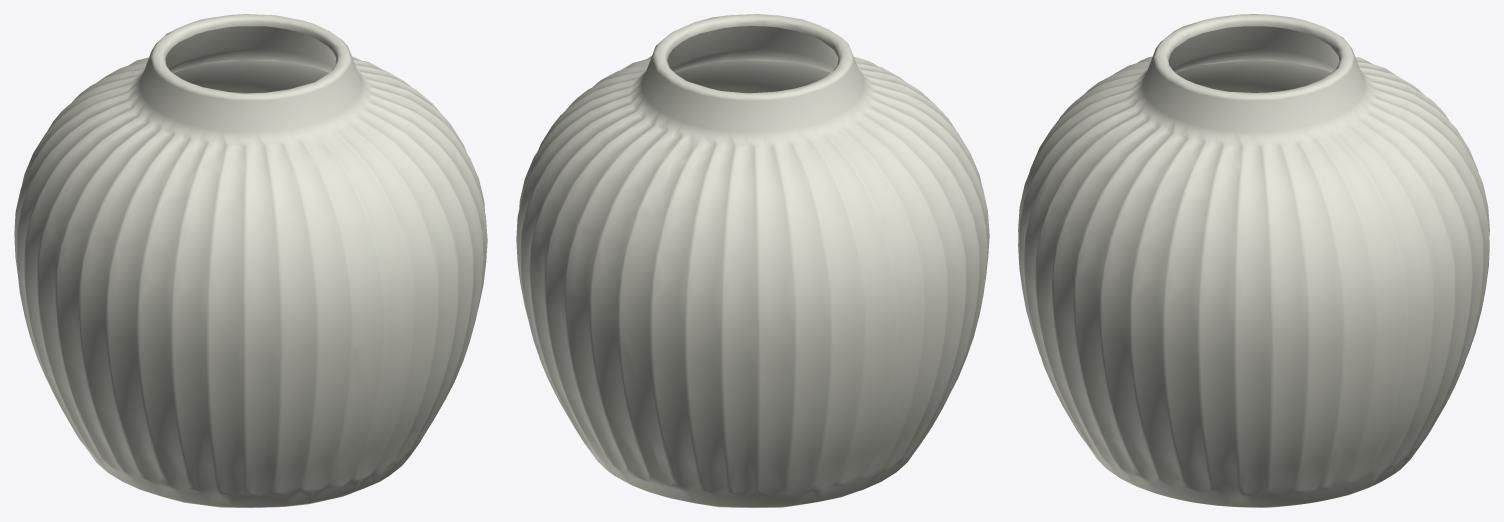
Rendered from pelarbjork_wazon_80607311.glb.
The picture shows the model from 3 angles, left to right: view 1: azimuth 30°, elevation 25°; view 2: azimuth 150°, elevation 25°; view 3: azimuth 270°, elevation 25°; orthographic projection.
Parts seen in each view (by area): view 1: pelarbjork_wazon_80607311; view 2: pelarbjork_wazon_80607311; view 3: pelarbjork_wazon_80607311.
Part boxes in pixels (box(x1,y1,x2,y2)): pelarbjork_wazon_80607311: box(14, 14, 487, 507); pelarbjork_wazon_80607311: box(516, 14, 989, 507); pelarbjork_wazon_80607311: box(1018, 14, 1489, 507).
Bounding box in the file's own units: 0.1533 × 0.1382 × 0.1533.
Materials: 2 (2 with a texture image).
